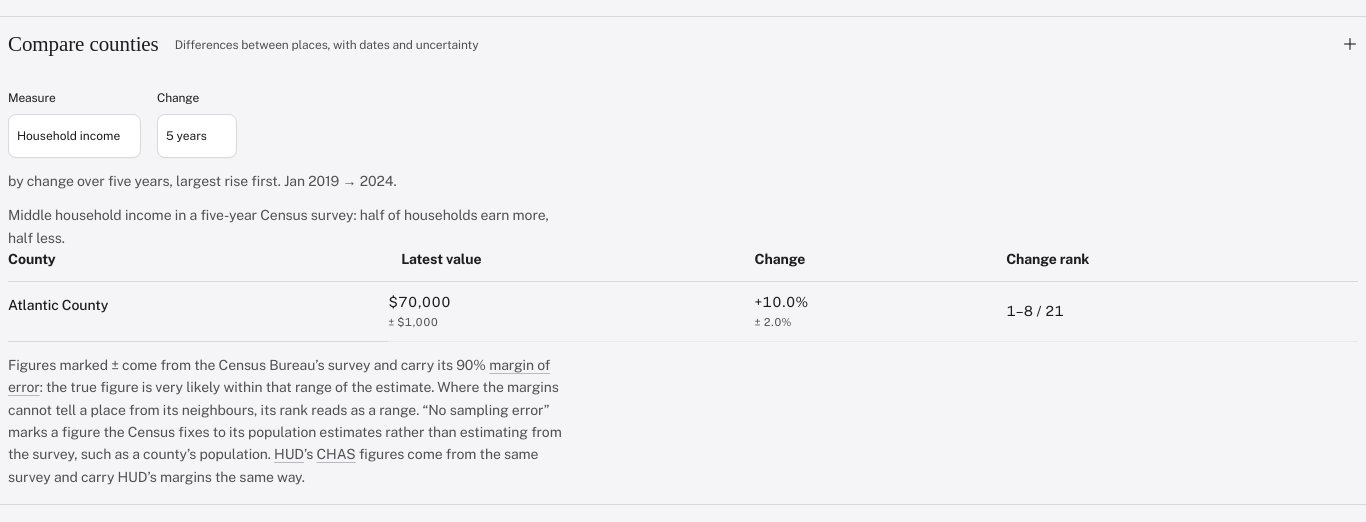
Test case: table-only county comparison › switches the metric without silently using an unavailable window
Select "Home value" in the dropdown labelled "Measure" at (74, 136), box [8,114,141,158]
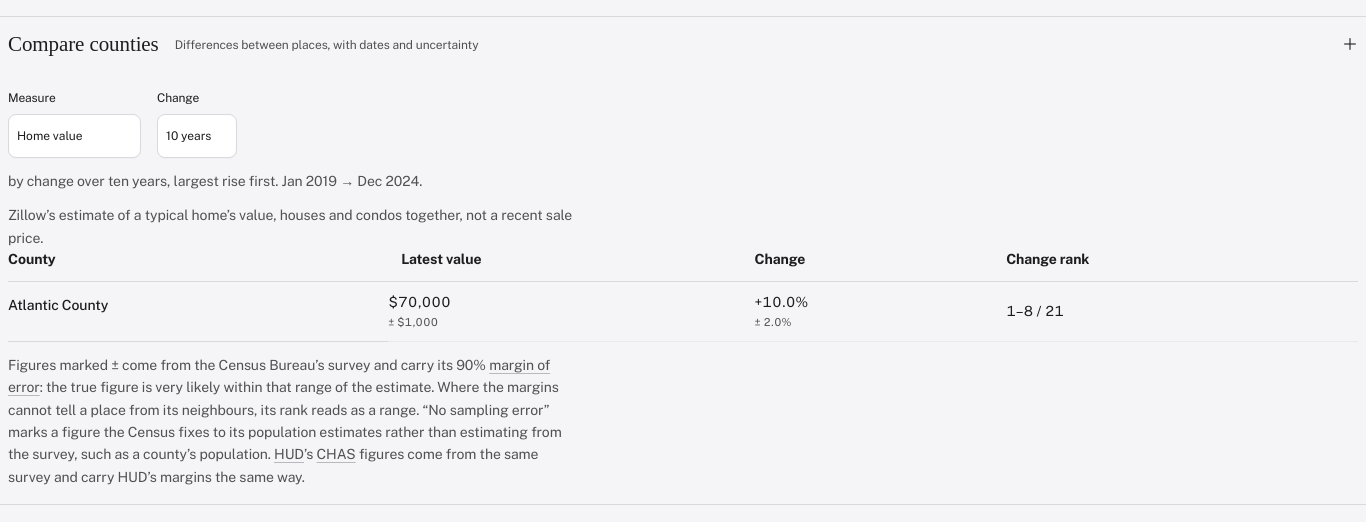
Check: the dropdown labelled "Change" shows "10 years", box [157,114,237,158]
